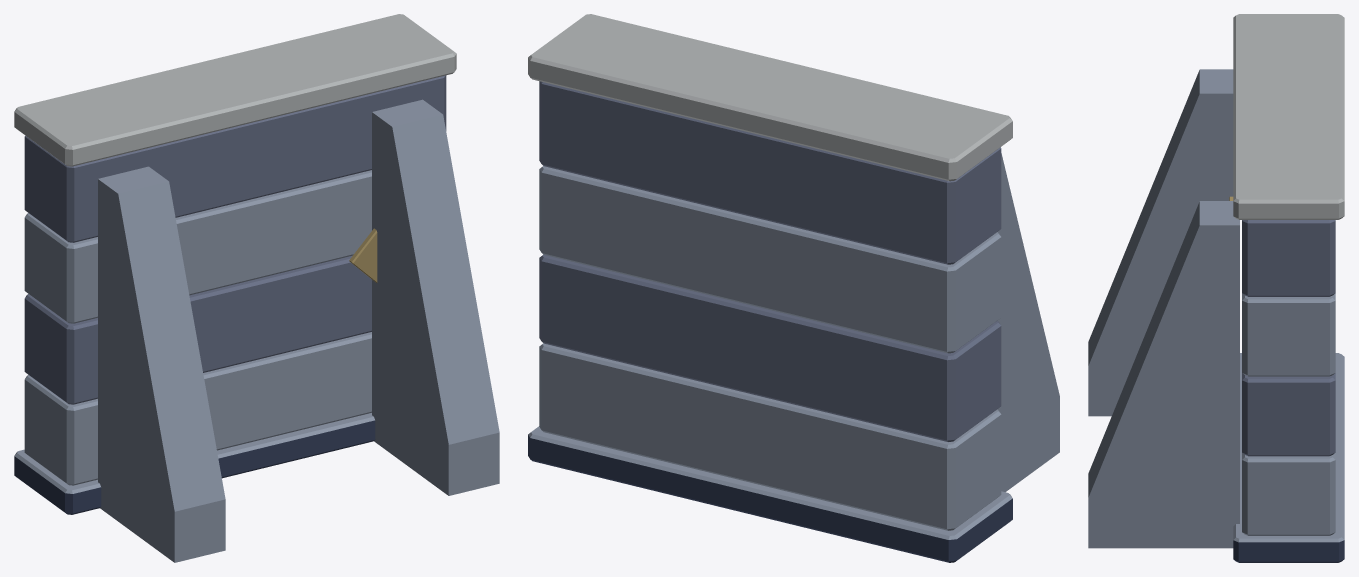
The model's file is wall-buttress.glb.
The picture shows the model from 3 angles, left to right: view 1: azimuth 30°, elevation 25°; view 2: azimuth 150°, elevation 25°; view 3: azimuth 270°, elevation 25°; orthographic projection. The views are drawn at different scales.
Parts seen in each view (by area): view 1: wall-buttress__body; view 2: wall-buttress__body; view 3: wall-buttress__body.
Part boxes in pixels (box(x1,y1,x2,y2)): wall-buttress__body: box(14, 14, 499, 562); wall-buttress__body: box(528, 14, 1059, 562); wall-buttress__body: box(1088, 14, 1344, 562).
Bounding box in the file's own units: 2 × 1.8 × 1.15.
